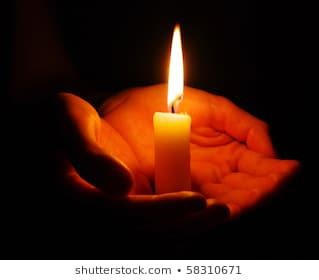fire: (165, 21, 186, 110)
